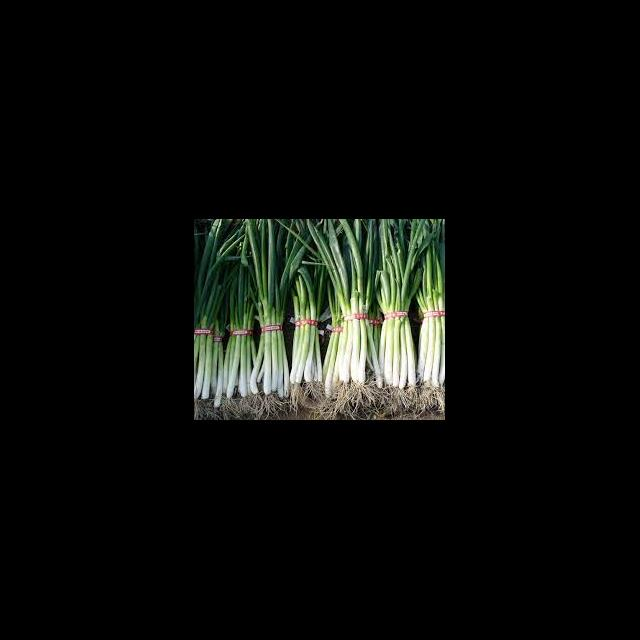green_onion: (330, 220, 380, 398), (248, 220, 296, 403), (378, 220, 418, 396), (292, 220, 328, 402), (226, 220, 262, 400), (195, 220, 228, 410), (418, 220, 444, 392)
